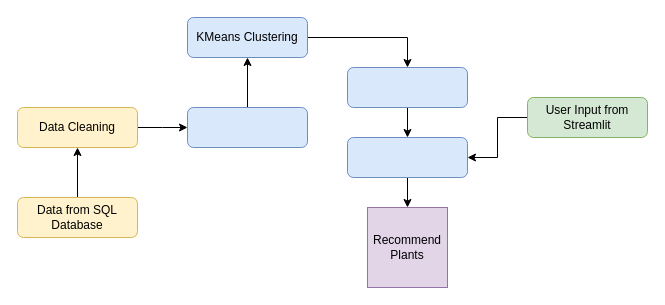
The diagram is 665 pixels wide and 305 high, and some of its shapes have lost their labels. Each missing label, with the centre of its shape:
"Predict cluster for Input" goes at point (407, 157).
"Predict Clusters for Entire Dataset" goes at point (407, 87).
"Spectral Clustering" goes at point (247, 127).
